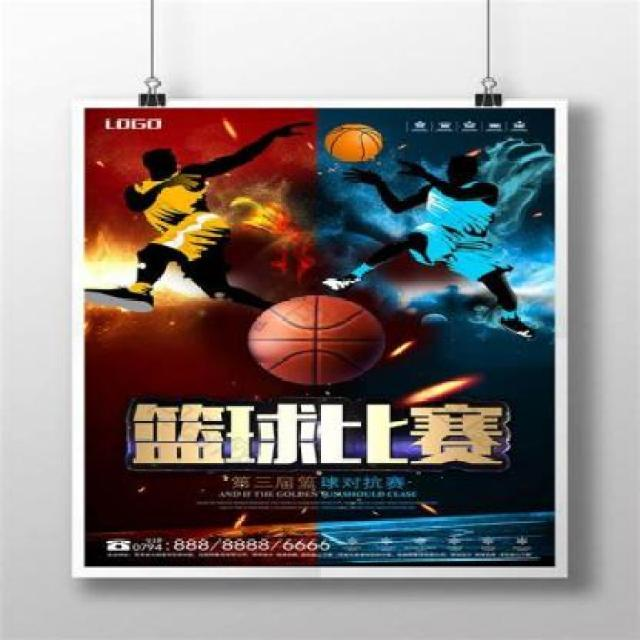basketball: (248, 294, 388, 388)
